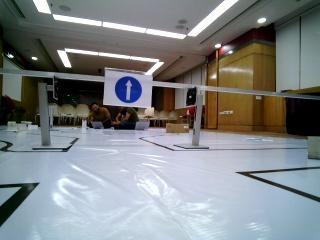straight: (105, 65, 154, 107)
